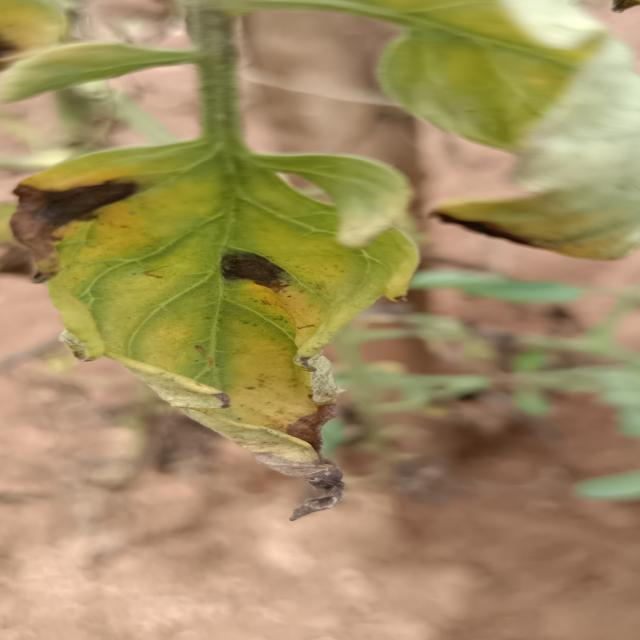tomato_early blight: (9, 0, 416, 511)
